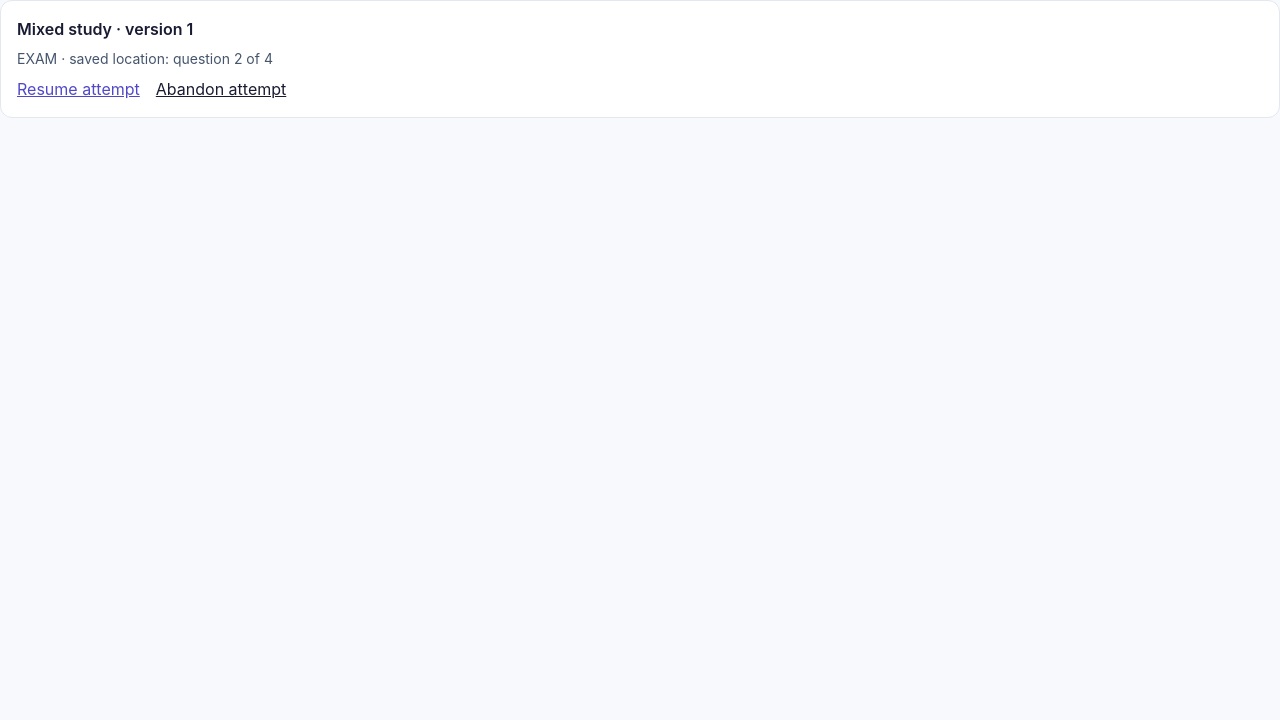
Test: links the saved attempt location and requires confirmation for terminal abandonment
This screenshot has width=1280, height=720.
Expected: the text "EXAM · saved location: question 2 of 4" is shown, top-left (17, 50), bottom-right (273, 67)
Click the button "Abandon attempt": point(221, 89) top-left (156, 77), bottom-right (286, 101)
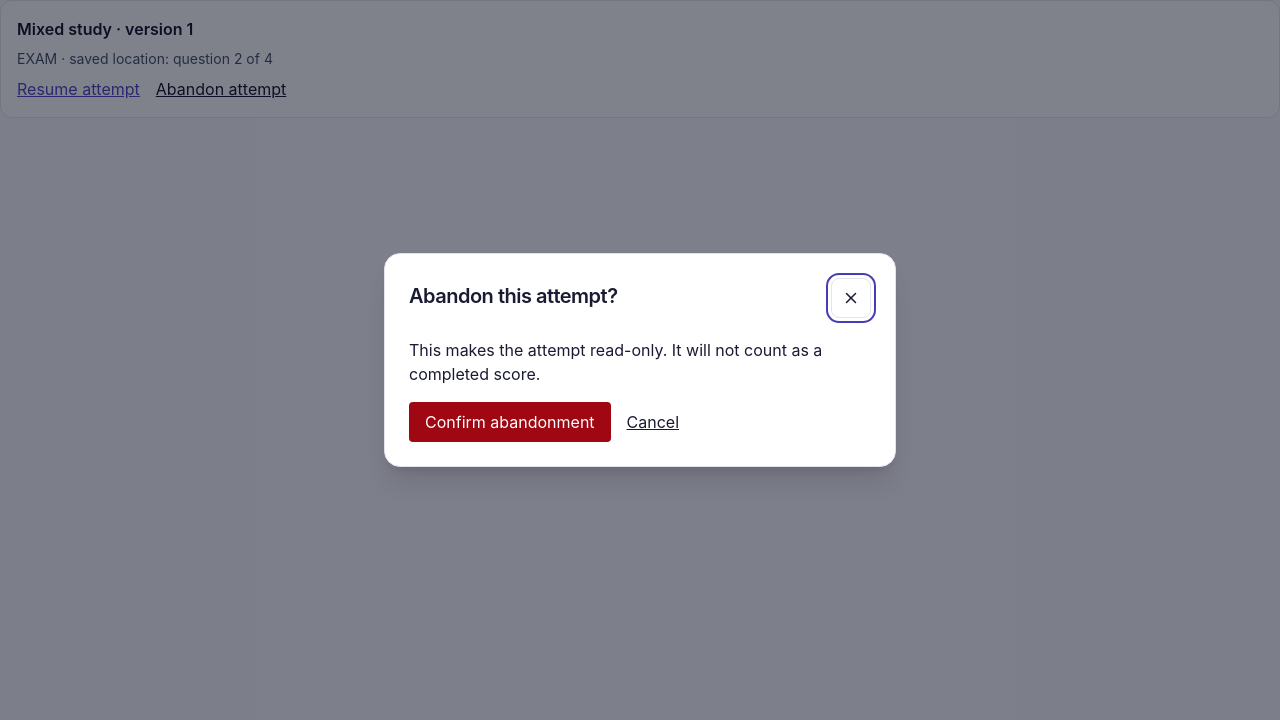
Click the button "Confirm abandonment": point(510, 422) top-left (409, 402), bottom-right (611, 442)
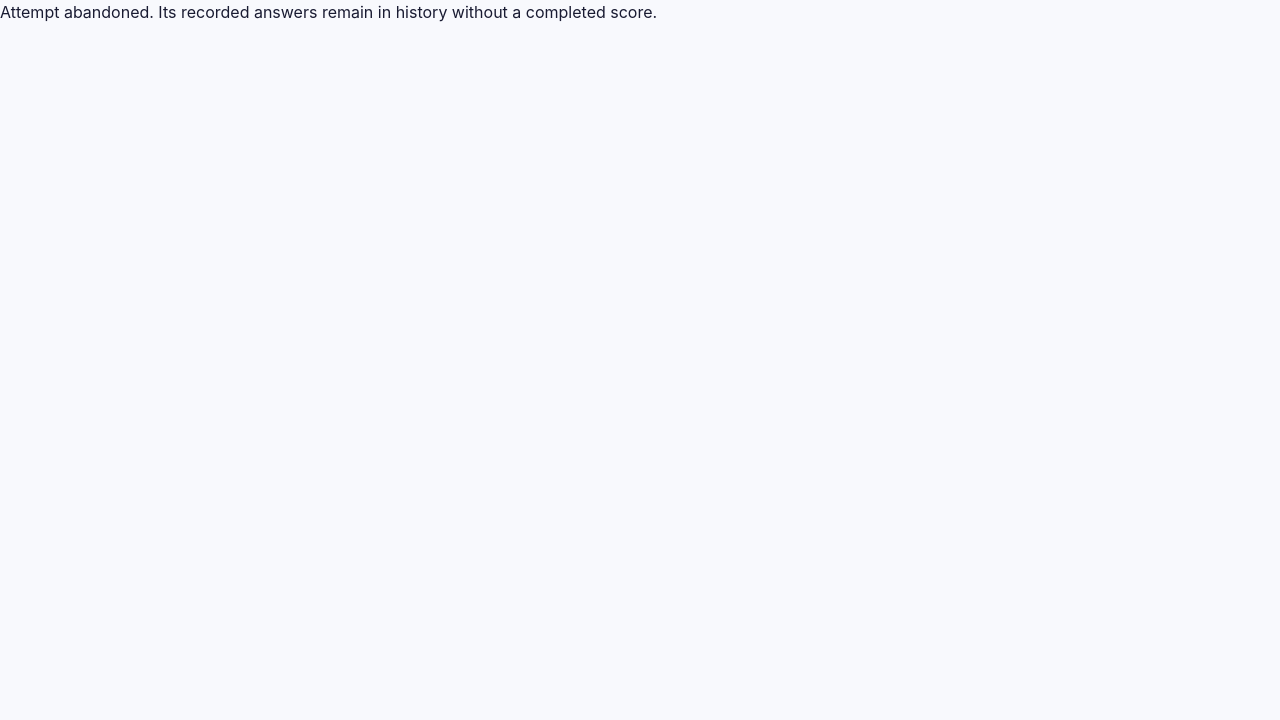
Now the message shows "Attempt abandoned", box top-left (0, 2), bottom-right (657, 22)
